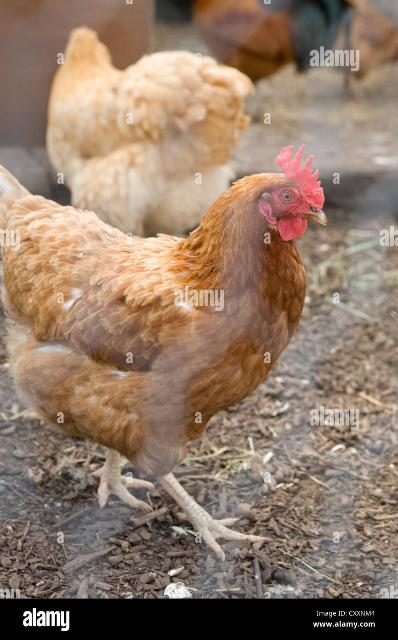Chicken: (0, 140, 332, 557), (45, 26, 255, 238)
